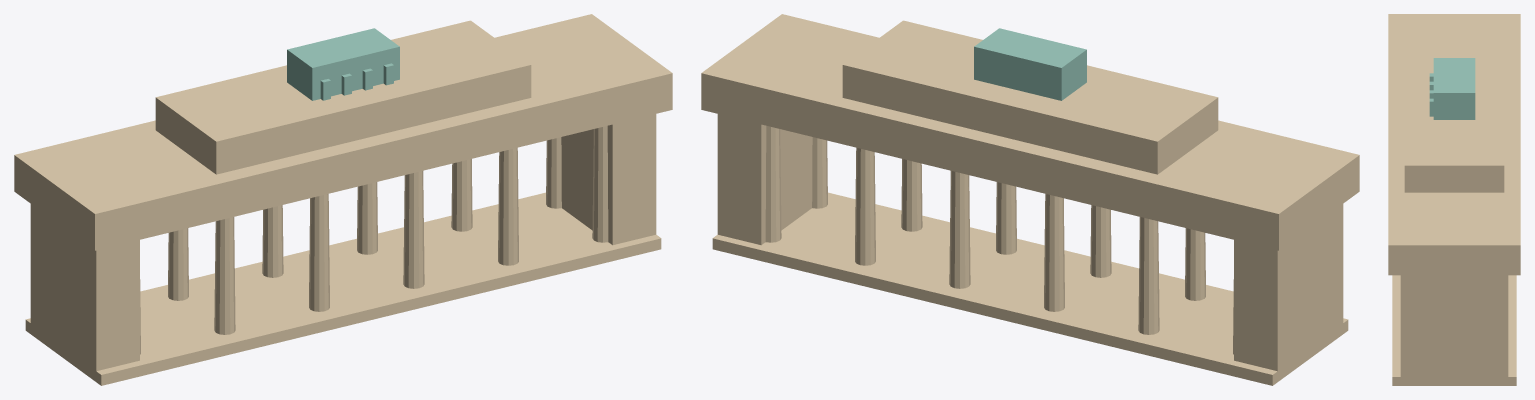
Rendered from LM_BrandenburgGate.fbx.
3 views of the same model, side by side, from view 1: azimuth 30°, elevation 25°; view 2: azimuth 150°, elevation 25°; view 3: azimuth 270°, elevation 25° (orthographic). The views are drawn at different scales.
Parts seen in each view (by area): view 1: LM_BrandenburgGate; view 2: LM_BrandenburgGate; view 3: LM_BrandenburgGate.
Part boxes in pixels (x1,y1,x2,y2): LM_BrandenburgGate: (14, 14, 672, 385); LM_BrandenburgGate: (701, 14, 1359, 385); LM_BrandenburgGate: (1388, 14, 1520, 385).
Size of the model in its own units: 66 by 26.4 by 16.
